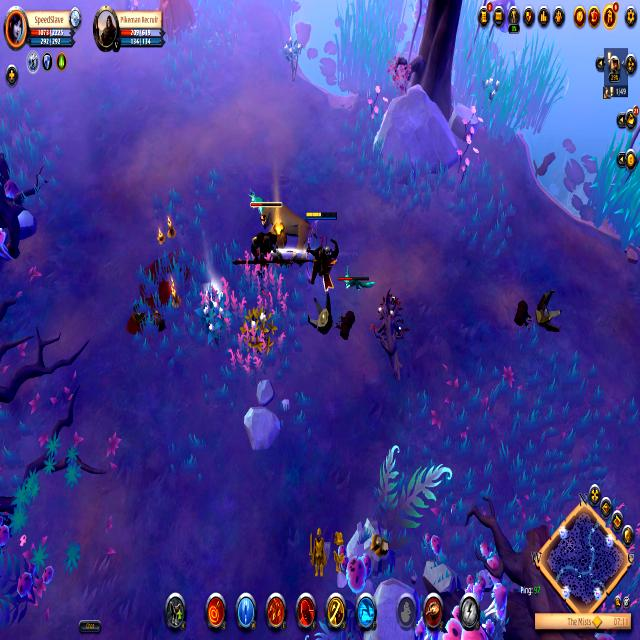hide: (369, 286, 408, 384), (198, 284, 232, 346), (240, 304, 275, 362), (282, 34, 307, 84)
mob: (256, 189, 316, 257)
red: (246, 190, 284, 283), (301, 206, 340, 294)
tree: (154, 0, 202, 46)
